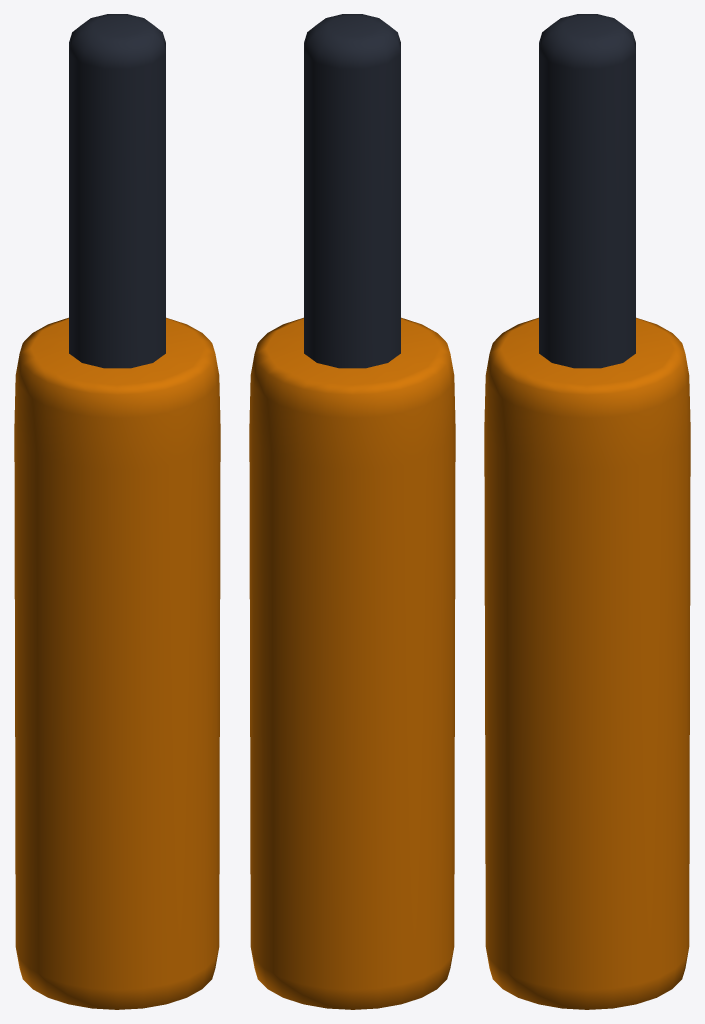
Rendered from Obstacle_Pole_Center.glb.
3 views of the same model, side by side, from view 1: azimuth 30°, elevation 25°; view 2: azimuth 150°, elevation 25°; view 3: azimuth 270°, elevation 25° (orthographic).
Visible parts, largest first — view 1: Obstacle_Pole_Center; view 2: Obstacle_Pole_Center; view 3: Obstacle_Pole_Center.
Boxes of the visible parts, x1=… form: Obstacle_Pole_Center: x1=14, y1=14, x2=220, y2=1009; Obstacle_Pole_Center: x1=249, y1=14, x2=455, y2=1009; Obstacle_Pole_Center: x1=484, y1=14, x2=690, y2=1009.
Bounding box in the file's own units: 0.7877 × 4 × 0.7877.
